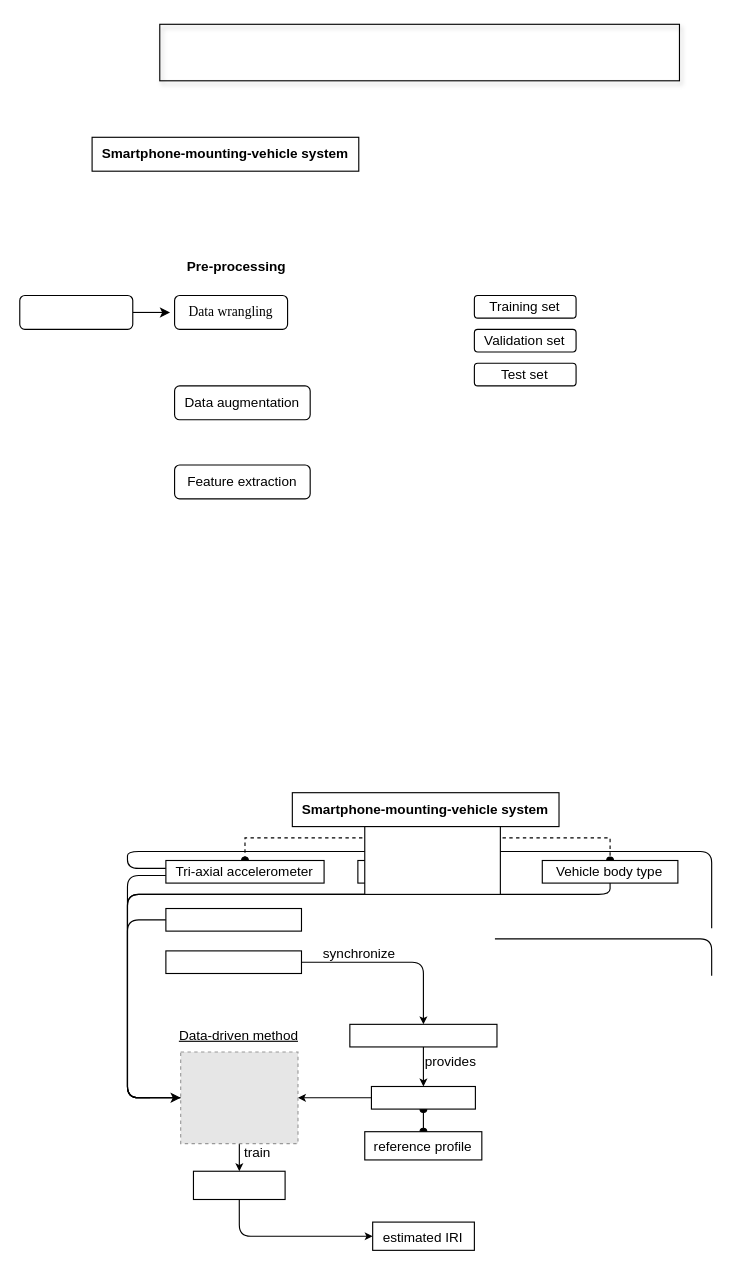
Some shapes in this 733 by 1270 pixel diagram are drawn without their labels. Grey dashed boxes stand in for pictures. The centre of each missing label's shape, as x and y in pixels:
"DL model" belongs at point (238, 1184).
"Ground-truth profiler" belongs at point (423, 1035).
"Labeled data" belongs at point (76, 311).
"reference IRI" belongs at point (422, 1097).
"smartphone GPS" belongs at point (233, 961).
"Tri-axial gyroscope" belongs at point (233, 919).
